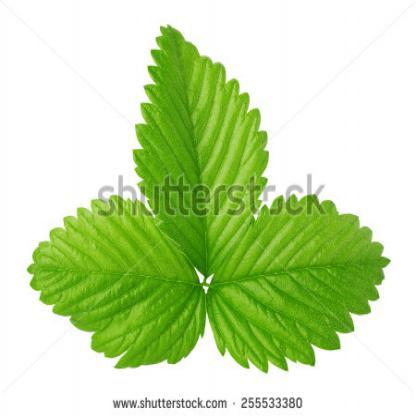Strawberry leaf: (204, 180, 396, 374), (128, 21, 272, 268), (22, 190, 211, 376)
